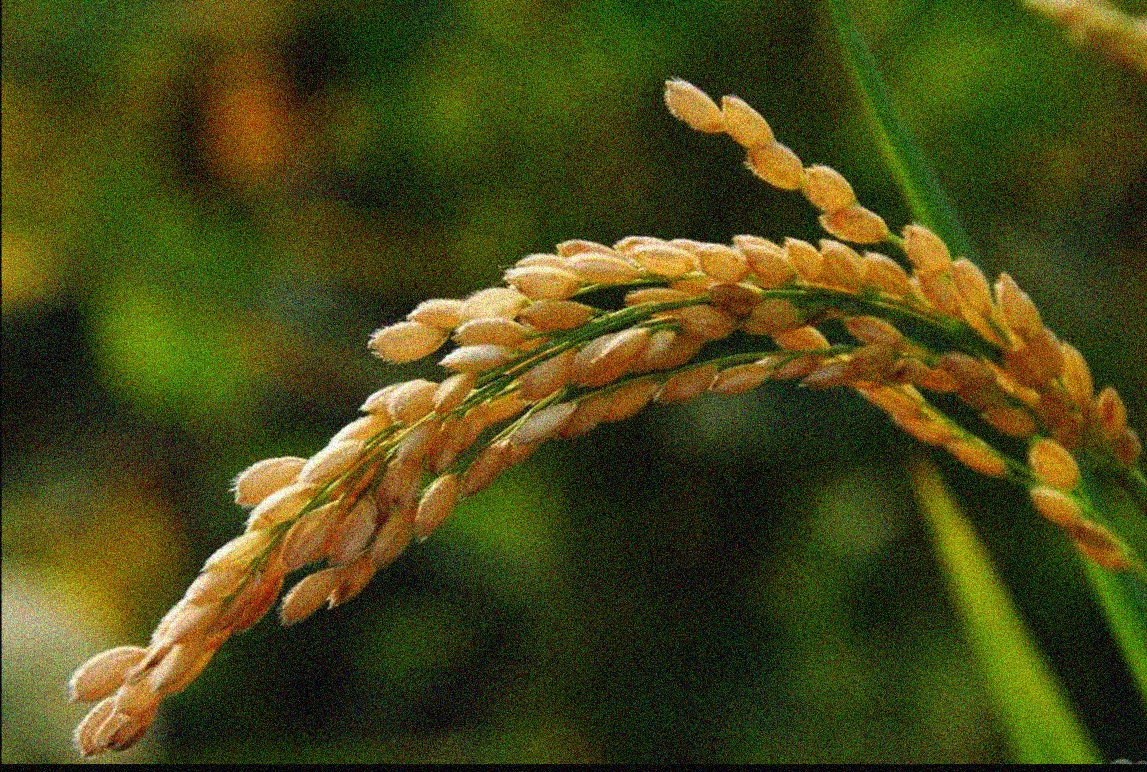rice: (58, 20, 1138, 761)
